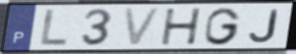3: (80, 7, 116, 47)
G: (202, 7, 243, 47)
H: (160, 7, 204, 47)
J: (248, 8, 281, 44)
L: (38, 8, 70, 48)
V: (122, 6, 165, 48)
